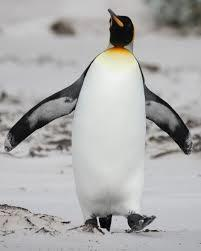king: (30, 9, 186, 244)
